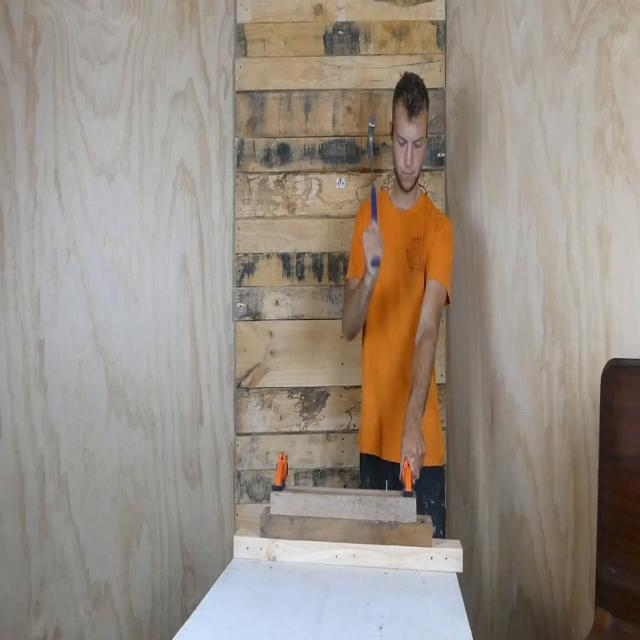hammer: (363, 118, 384, 281)
